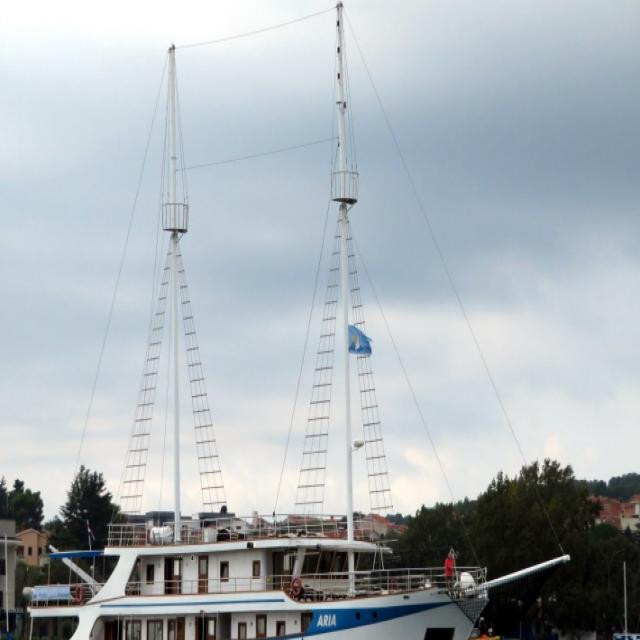cruises: (14, 1, 575, 640)
